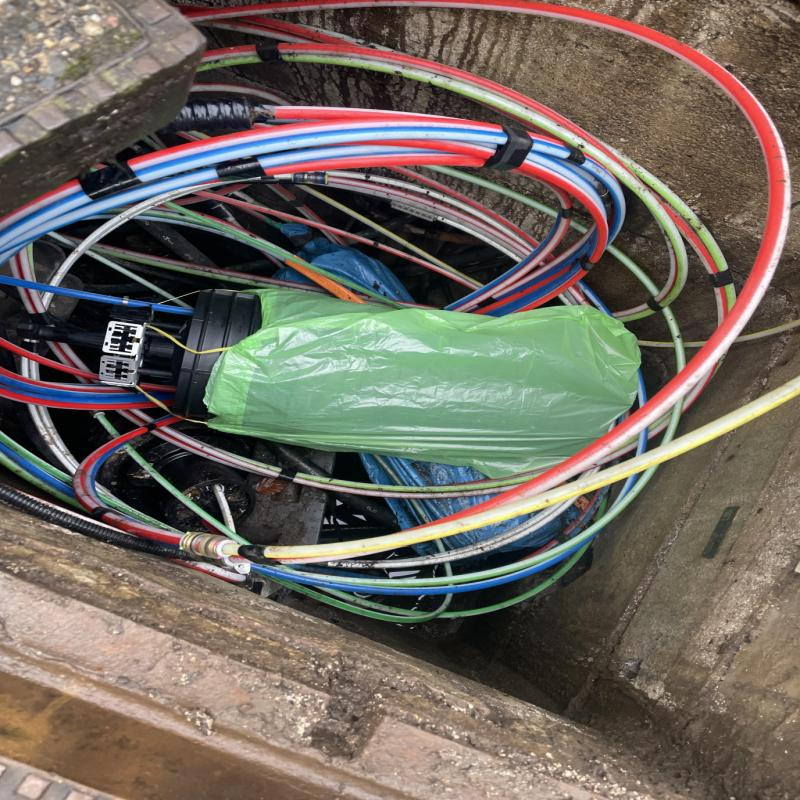NT-Muffen: (80, 284, 644, 478)
